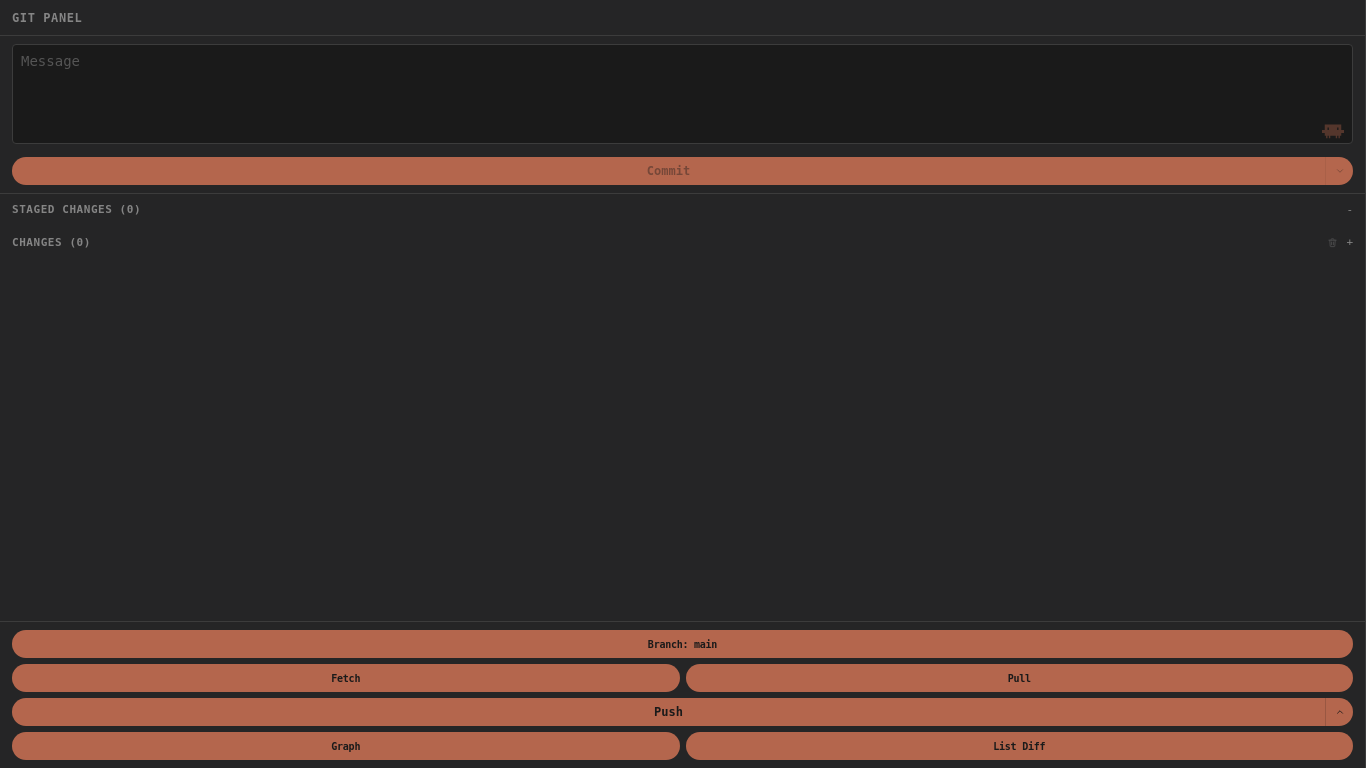
Test: GitPanel — push options (force push) › with force-push safety on, Force Push opens the confirmation modal instead of running immediately
Click the button named "Push options" at (1339, 712), box [1325,698,1353,726]
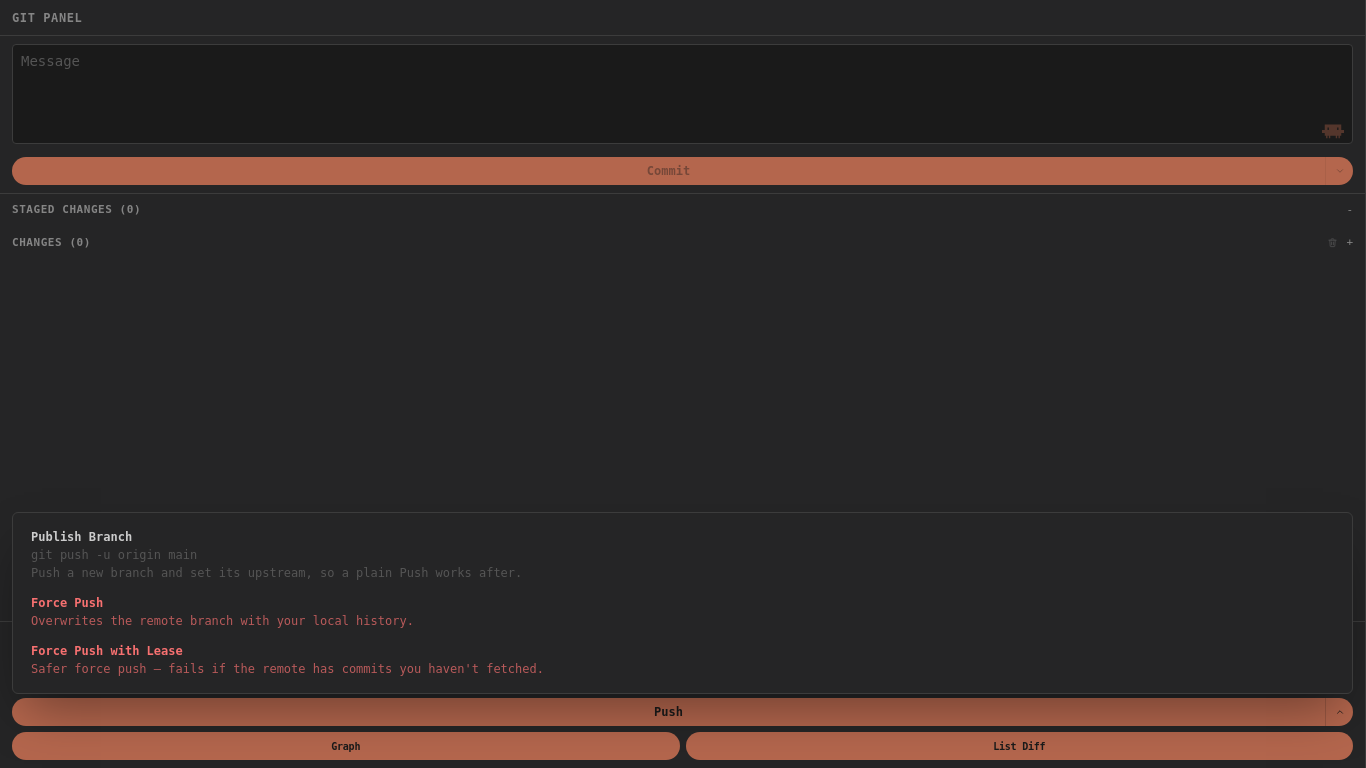
Click the text "Force Push" at (67, 603), box [31,595,103,611]
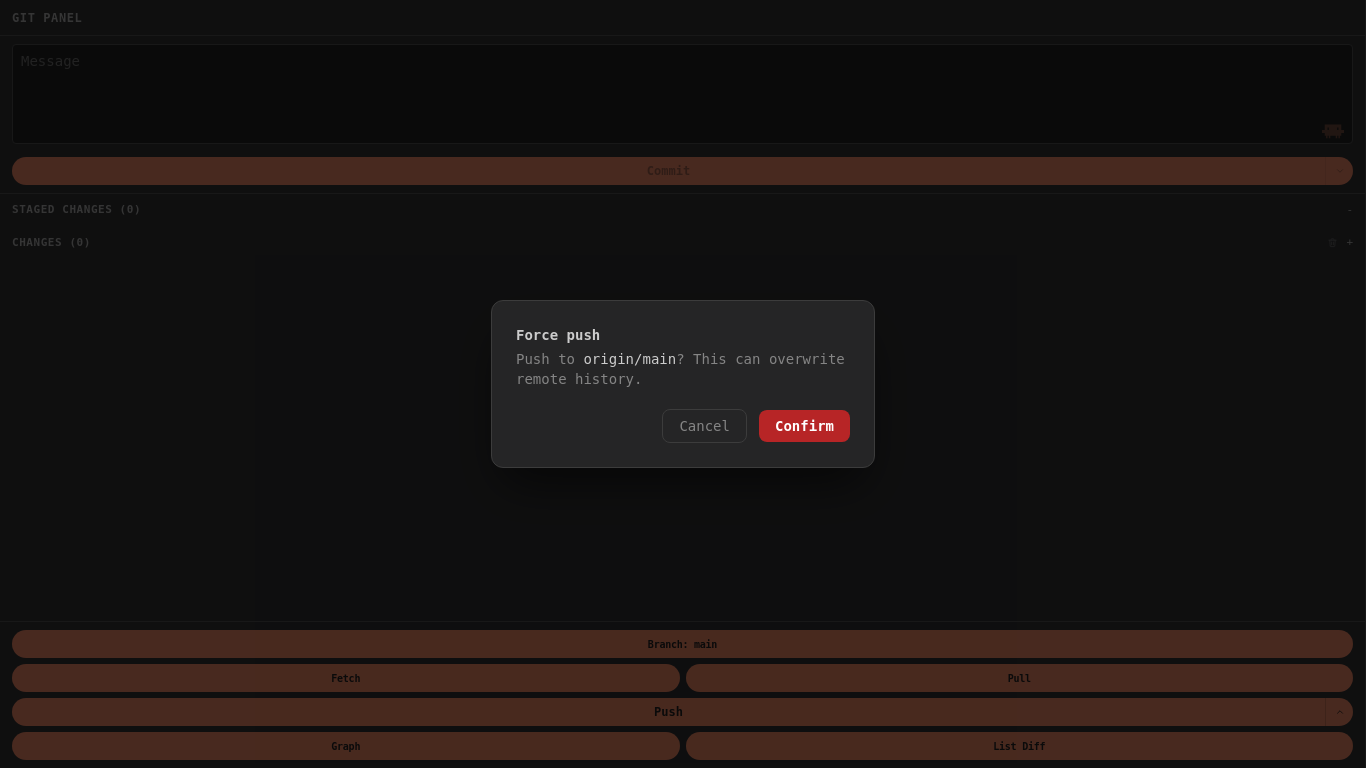
Expected: the button "Confirm" is shown, [759,410,850,442]
